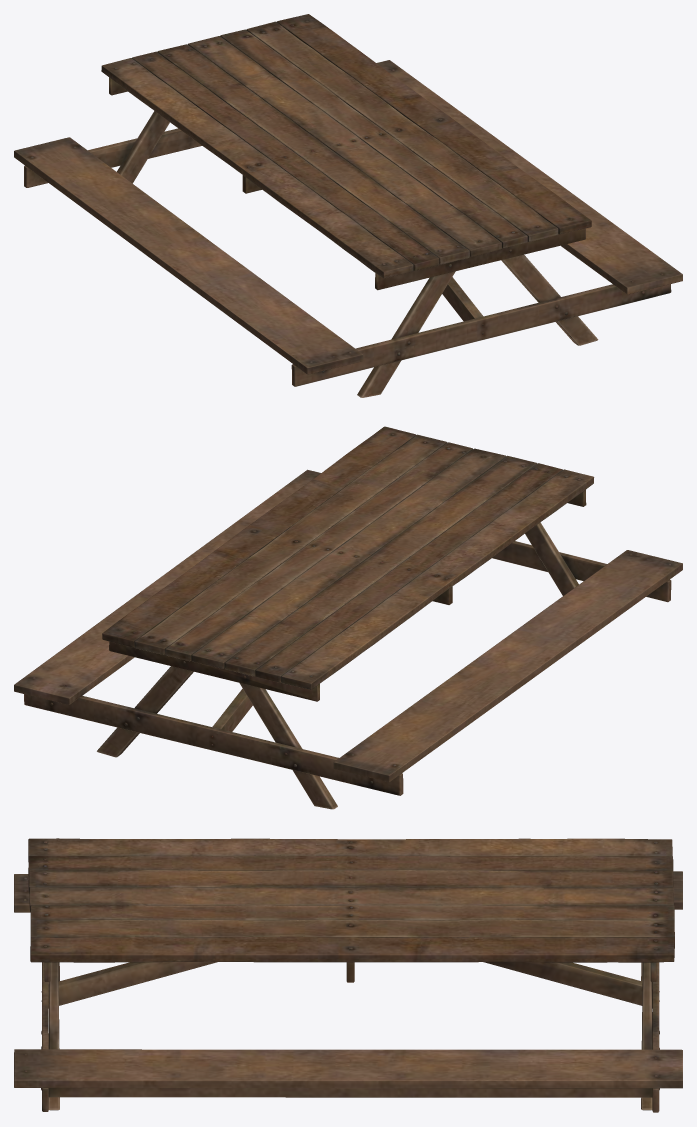
Rendered from wooden_picnic_table.glb.
3 renders of one model, top to bottom at view 1: azimuth 30°, elevation 25°; view 2: azimuth 150°, elevation 25°; view 3: azimuth 270°, elevation 25°, orthographic. The views are drawn at different scales.
Visible parts, largest first — view 1: wooden_picnic_table; view 2: wooden_picnic_table; view 3: wooden_picnic_table.
Part boxes in pixels (<box>): wooden_picnic_table: <box>14,14,682,397</box>; wooden_picnic_table: <box>14,426,682,809</box>; wooden_picnic_table: <box>14,838,682,1112</box>.
Size of the model in its own units: 2.24 by 0.746 by 3.02.
2 materials, 2 textured.
